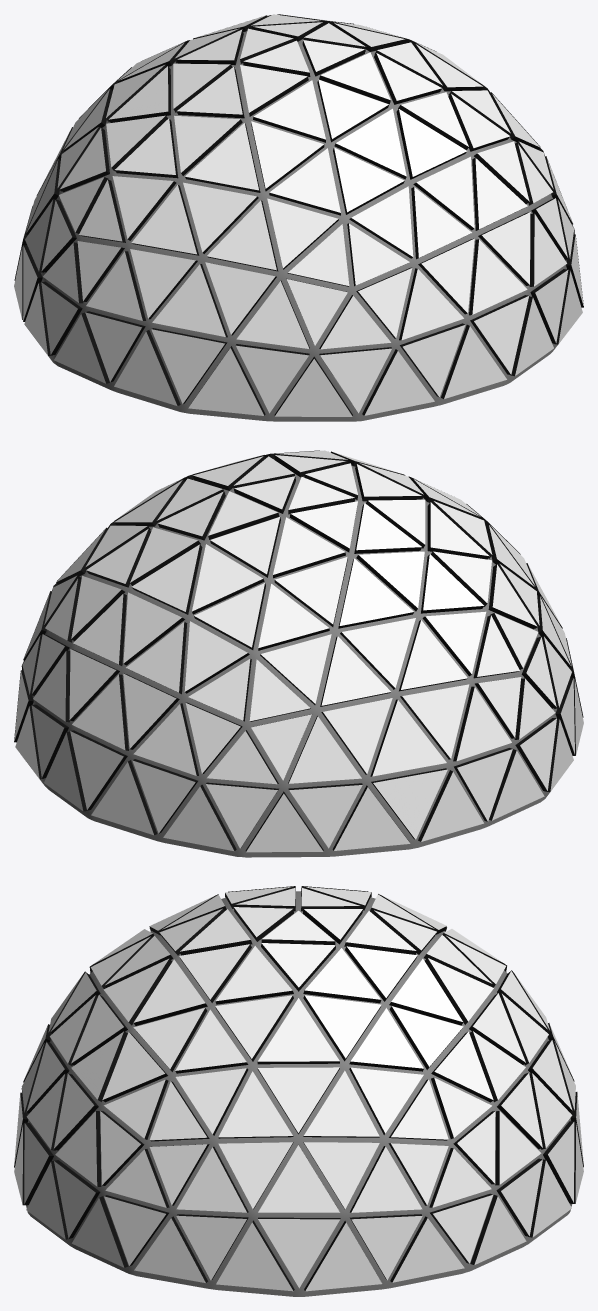
The model's file is dome test.fbx.
3 views of the same model, one above another, from view 1: azimuth 30°, elevation 25°; view 2: azimuth 150°, elevation 25°; view 3: azimuth 270°, elevation 25° (orthographic).
Parts seen in each view (by area): view 1: dome; view 2: dome; view 3: dome.
Boxes of the visible parts, x1,y1,x2,y2 form: dome: [14, 14, 583, 421]; dome: [14, 450, 583, 857]; dome: [14, 886, 583, 1296].
Size of the model in its own units: 13.28 by 6.84 by 13.07.
Materials: 1 (1 with a texture image).
